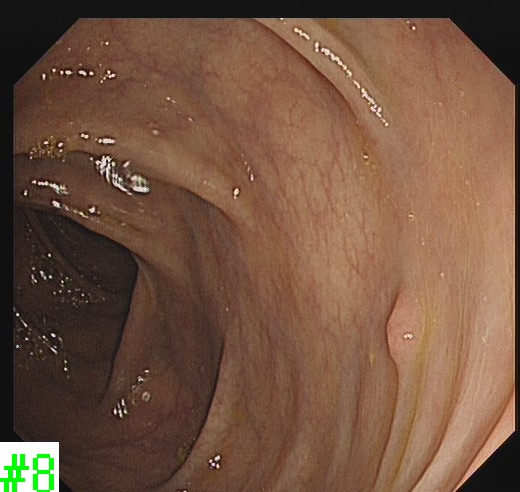adenoma: (381, 288, 429, 366)
